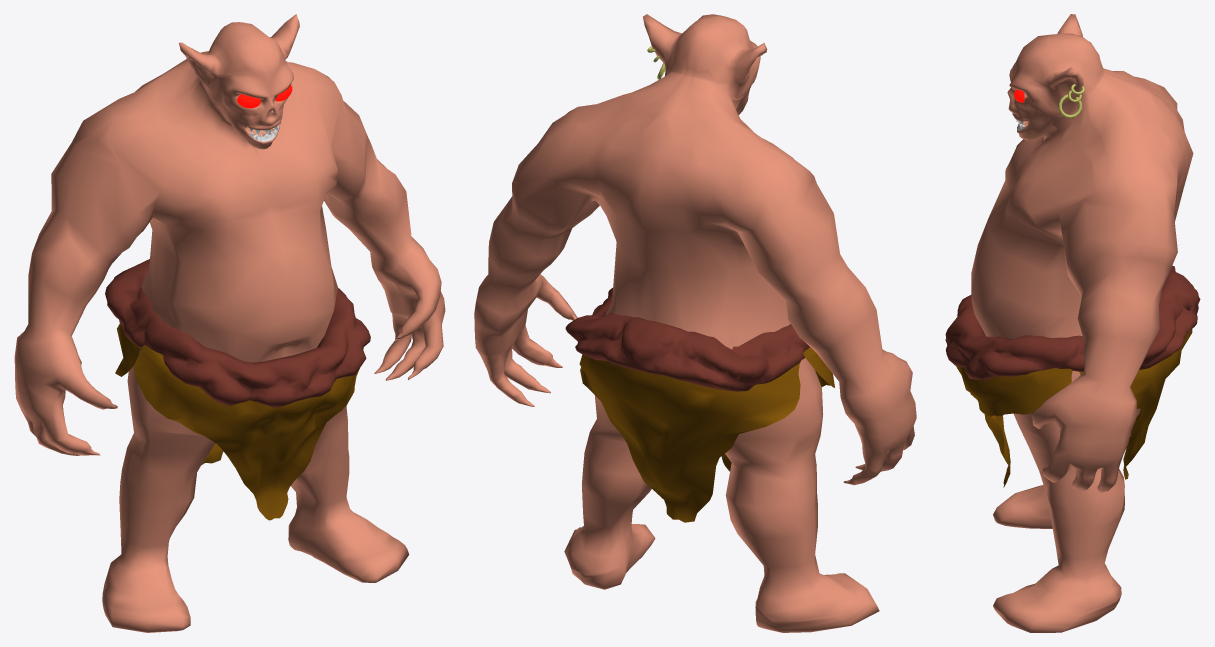
File: not_a_monster.glb
3 views of the same model, side by side, from view 1: azimuth 30°, elevation 25°; view 2: azimuth 150°, elevation 25°; view 3: azimuth 270°, elevation 25° (orthographic). The views are drawn at different scales.
Parts seen in each view (by area): view 1: Low poly body, Dec Rag, Dec Belt; view 2: Low poly body, Dec Rag, Dec Belt; view 3: Low poly body, Dec Belt, Dec Rag.
Part boxes in pixels (left/top/right/bottom): Low poly body: left=14, top=14, right=445, bottom=632; Dec Rag: left=115, top=323, right=359, bottom=520; Dec Belt: left=105, top=259, right=370, bottom=407; Low poly body: left=474, top=14, right=916, bottom=632; Dec Rag: left=579, top=347, right=834, bottom=522; Dec Belt: left=565, top=288, right=809, bottom=391; Low poly body: left=971, top=14, right=1193, bottom=632; Dec Belt: left=945, top=265, right=1200, bottom=380; Dec Rag: left=956, top=329, right=1192, bottom=487.
Bounding box in the file's own units: 2.3 × 3 × 1.3.
